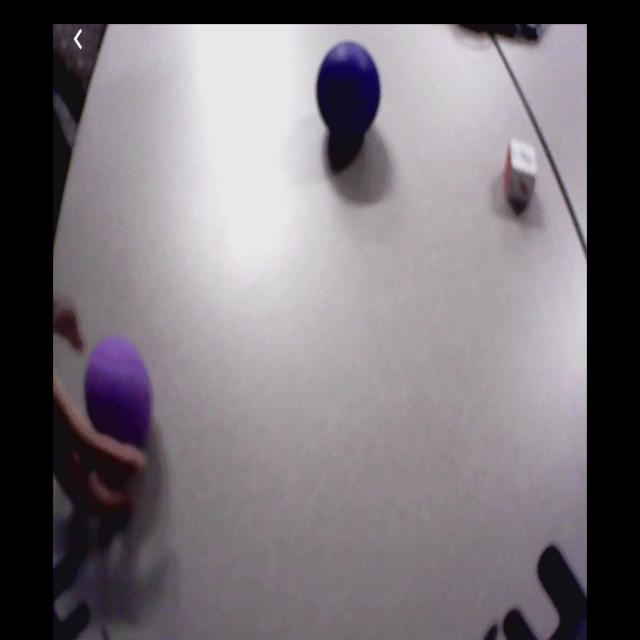ball: (86, 334, 153, 458), (318, 41, 380, 143)
